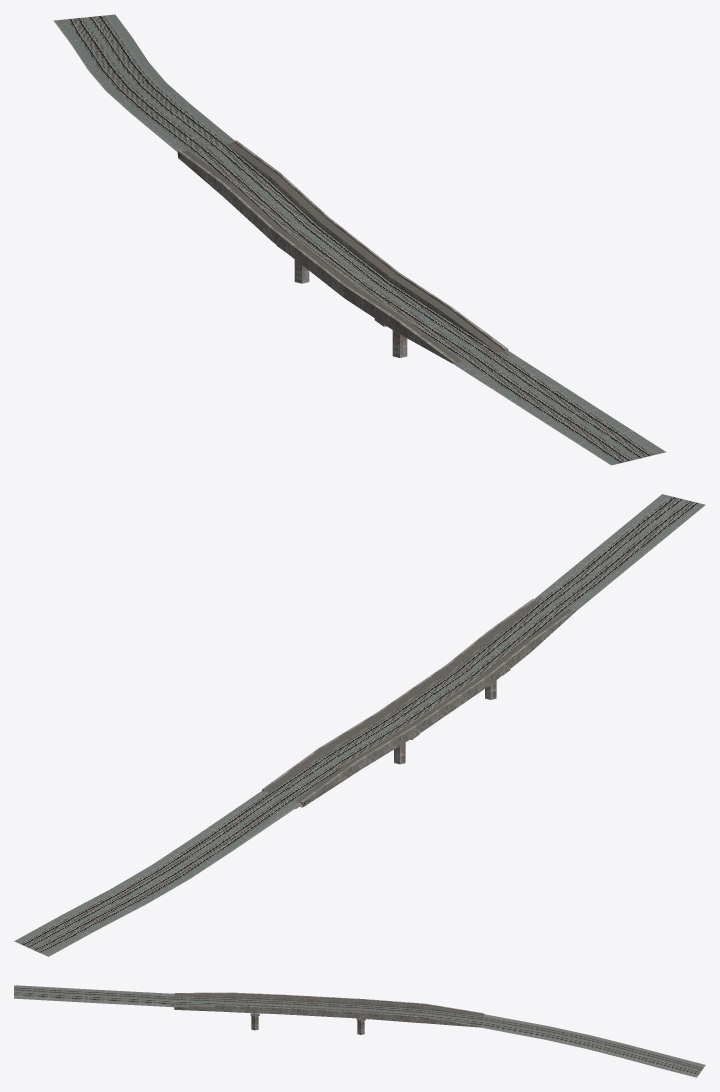
Rendered from lodcoe_traintrax_08.obj.
3 renders of one model, top to bottom at view 1: azimuth 30°, elevation 25°; view 2: azimuth 150°, elevation 25°; view 3: azimuth 270°, elevation 25°, orthographic. The views are drawn at different scales.
Parts seen in each view (by area): view 1: LODcoe_traintrax_08; view 2: LODcoe_traintrax_08; view 3: LODcoe_traintrax_08.
Part boxes in pixels (x1,y1,x2,y2): LODcoe_traintrax_08: (54,14,666,465); LODcoe_traintrax_08: (14,494,705,956); LODcoe_traintrax_08: (14,985,705,1077).
Bounding box in the file's own units: 37.39 × 18.02 × 240.
4 materials, 4 textured.
